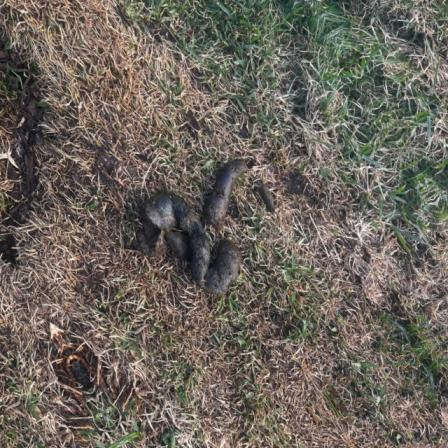dog-poop: (140, 153, 272, 287)
